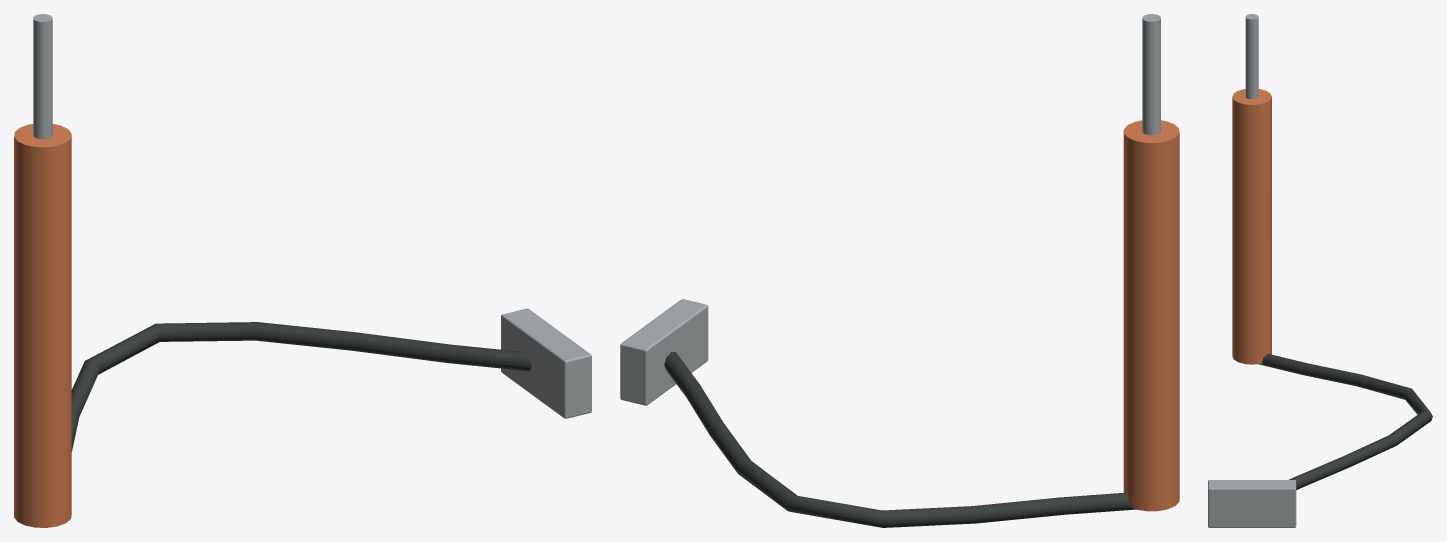
Rendered from research-and-crafting-progression-continuity-probe-e148cc19__2877.glb.
The picture shows the model from 3 angles, left to right: view 1: azimuth 30°, elevation 25°; view 2: azimuth 150°, elevation 25°; view 3: azimuth 270°, elevation 25°; orthographic projection. The views are drawn at different scales.
Visible parts, largest first — view 1: continuity-probe; view 2: continuity-probe; view 3: continuity-probe.
Part boxes in pixels (x1,y1,x2,y2): continuity-probe: (14,14,591,527); continuity-probe: (620,14,1179,527); continuity-probe: (1208,14,1432,527).
Bounding box in the file's own units: 0.194 × 0.173 × 0.1021.
